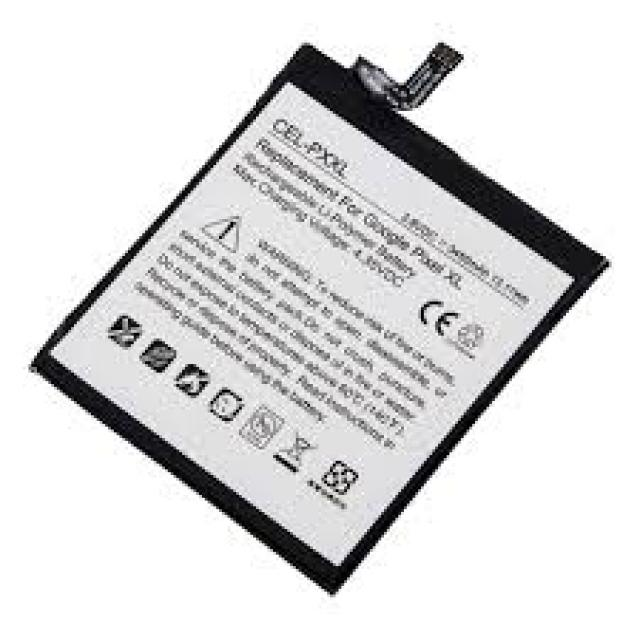non-organic waste: (38, 32, 606, 598)
